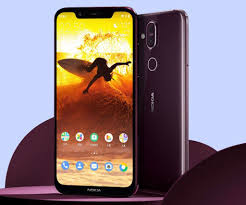nokia: (50, 3, 140, 198), (136, 8, 186, 182)
